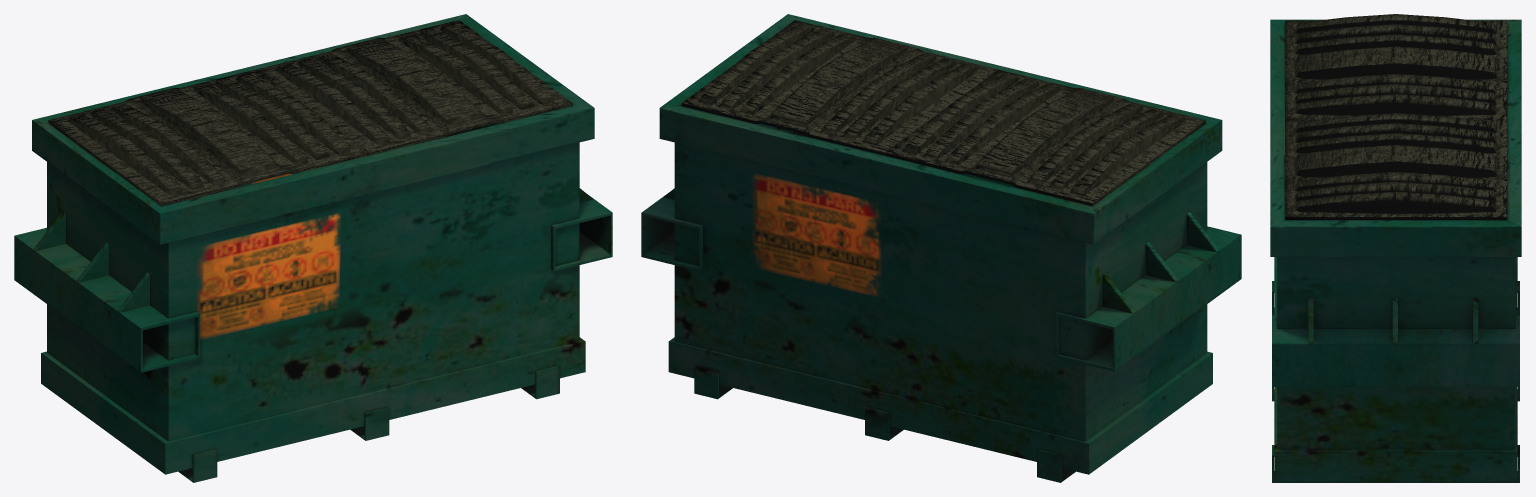
File: lixeira.fbx
3 views of the same model, side by side, from view 1: azimuth 30°, elevation 25°; view 2: azimuth 150°, elevation 25°; view 3: azimuth 270°, elevation 25° (orthographic). The views are drawn at different scales.
Parts seen in each view (by area): view 1: caçamba, tampa; view 2: caçamba, tampa; view 3: caçamba, tampa.
Boxes of the visible parts, left/top/right/bottom form: caçamba: left=14, top=14, right=612, bottom=482; tampa: left=48, top=20, right=572, bottom=206; caçamba: left=641, top=14, right=1241, bottom=482; tampa: left=681, top=20, right=1205, bottom=206; caçamba: left=1270, top=19, right=1521, bottom=482; tampa: left=1285, top=14, right=1506, bottom=219.
Bounding box in the file's own units: 239 × 143 × 112.
